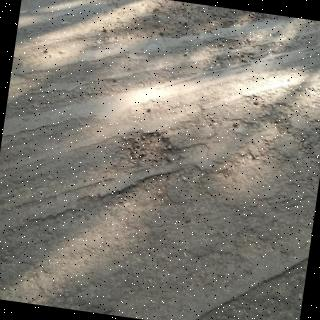pothole: (118, 130, 185, 167)
